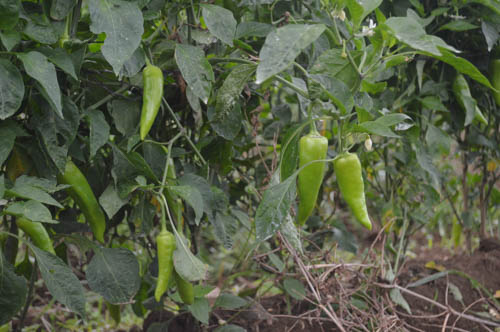ChiliPepper: (59, 164, 115, 242), (290, 136, 327, 230), (336, 155, 372, 228), (133, 66, 164, 144), (151, 230, 173, 304), (15, 216, 53, 257), (180, 268, 197, 308)
